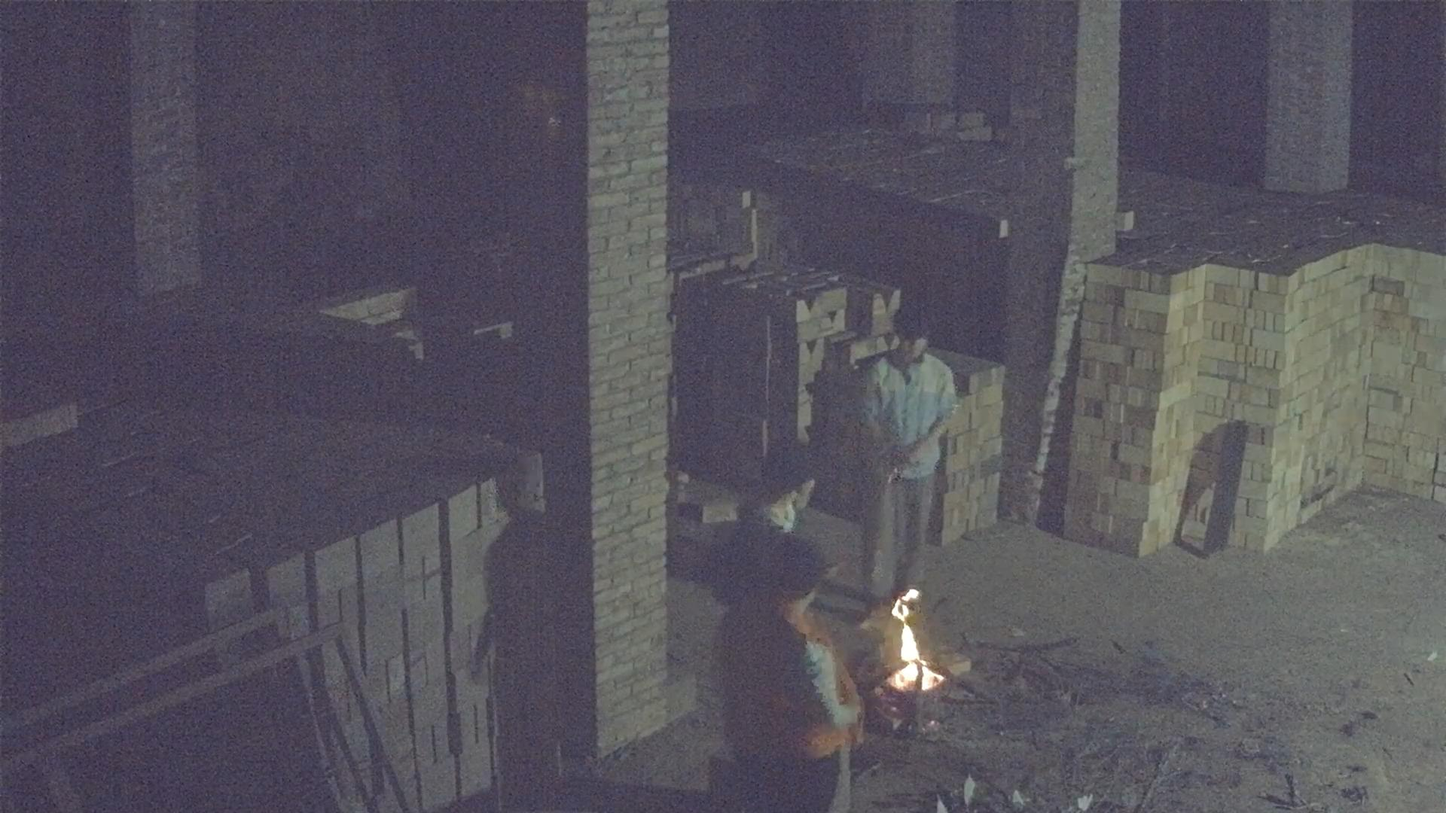fire: (887, 589, 945, 693), (888, 662, 921, 691)
